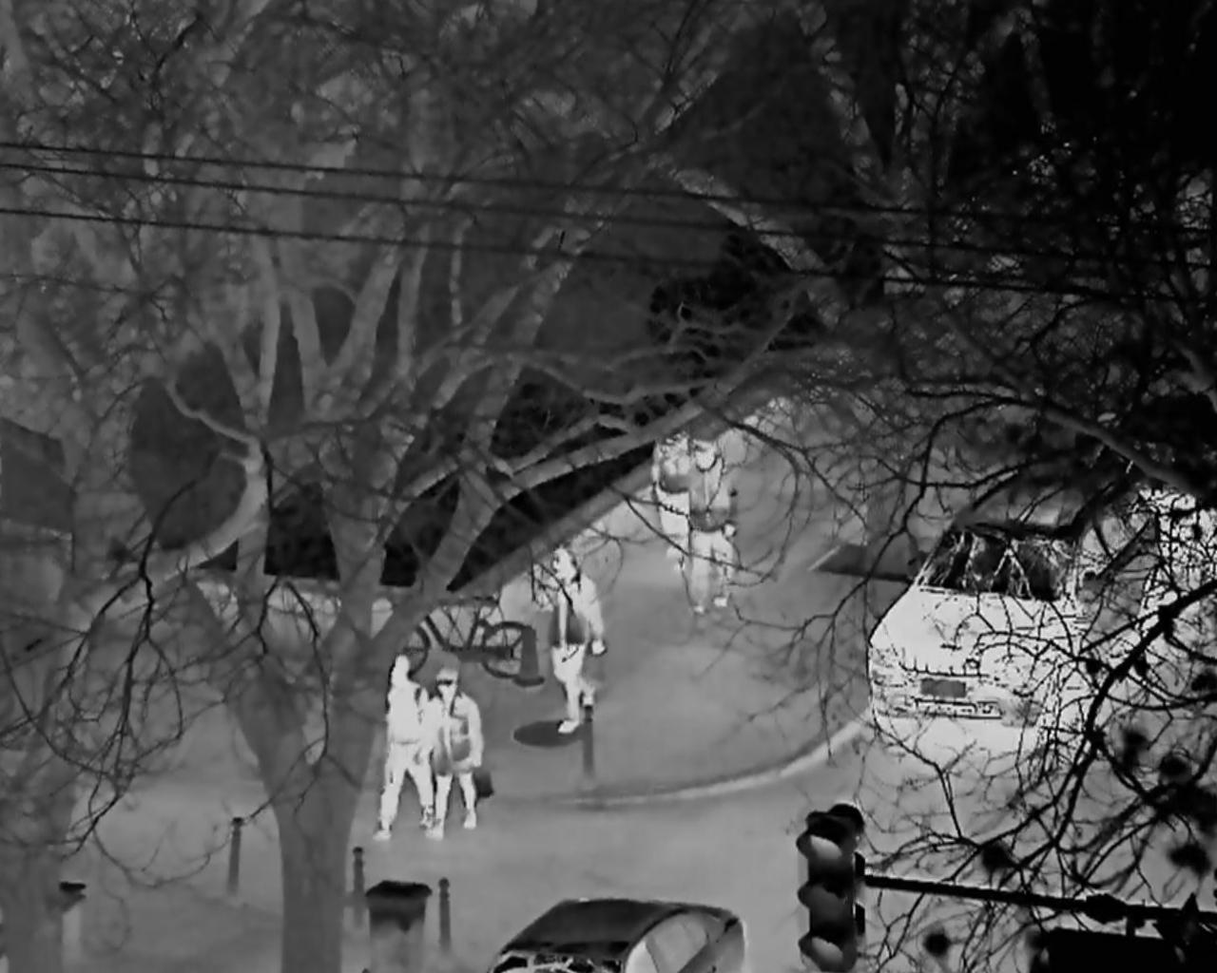person: (531, 544, 608, 736), (373, 653, 436, 837), (683, 435, 739, 623), (426, 667, 485, 840), (652, 434, 696, 560)
